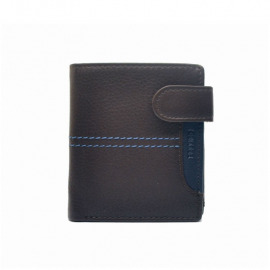monedero: (67, 63, 213, 223)
